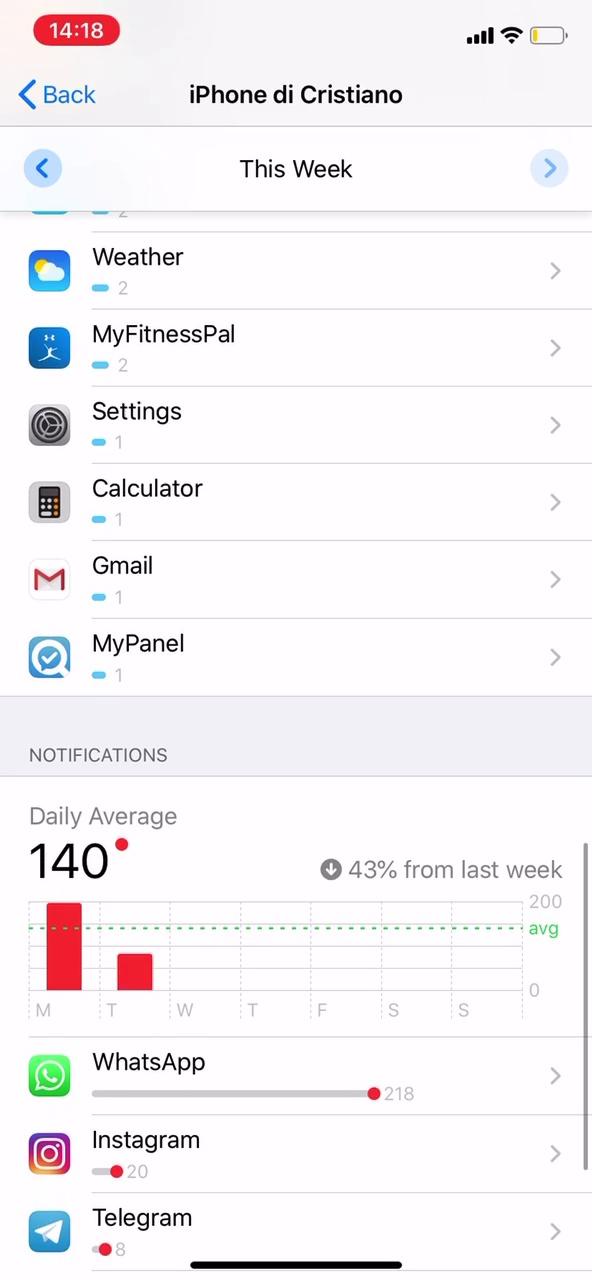not_app: (17, 1035, 454, 1113), (17, 1111, 276, 1191), (18, 1192, 287, 1258)
not_over: (3, 721, 265, 888)
pick_app: (28, 391, 337, 474), (25, 308, 331, 388), (23, 230, 309, 308), (31, 474, 290, 544), (23, 619, 243, 691), (26, 546, 242, 616)
week: (215, 144, 364, 187)
